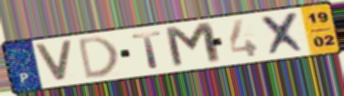4: (229, 17, 261, 59)
D: (76, 34, 120, 82)
M: (162, 20, 226, 70)
T: (130, 29, 165, 70)
V: (32, 39, 75, 83)
X: (258, 10, 310, 57)
